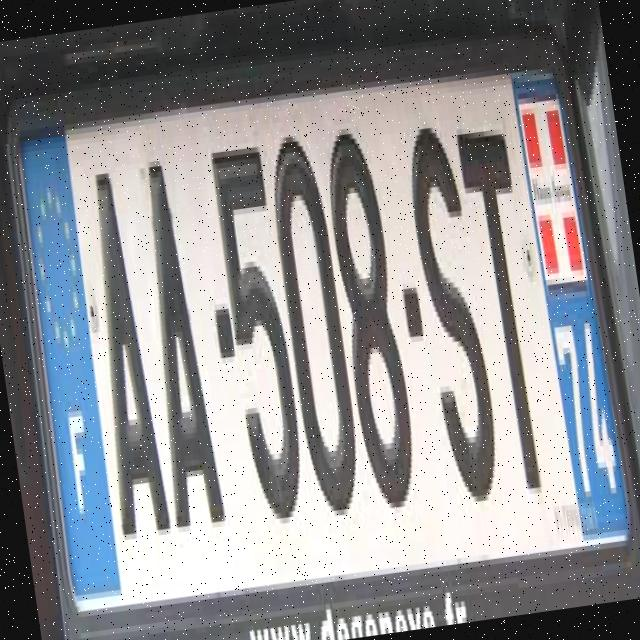EU: (7, 38, 640, 640)
France: (17, 127, 118, 608)
